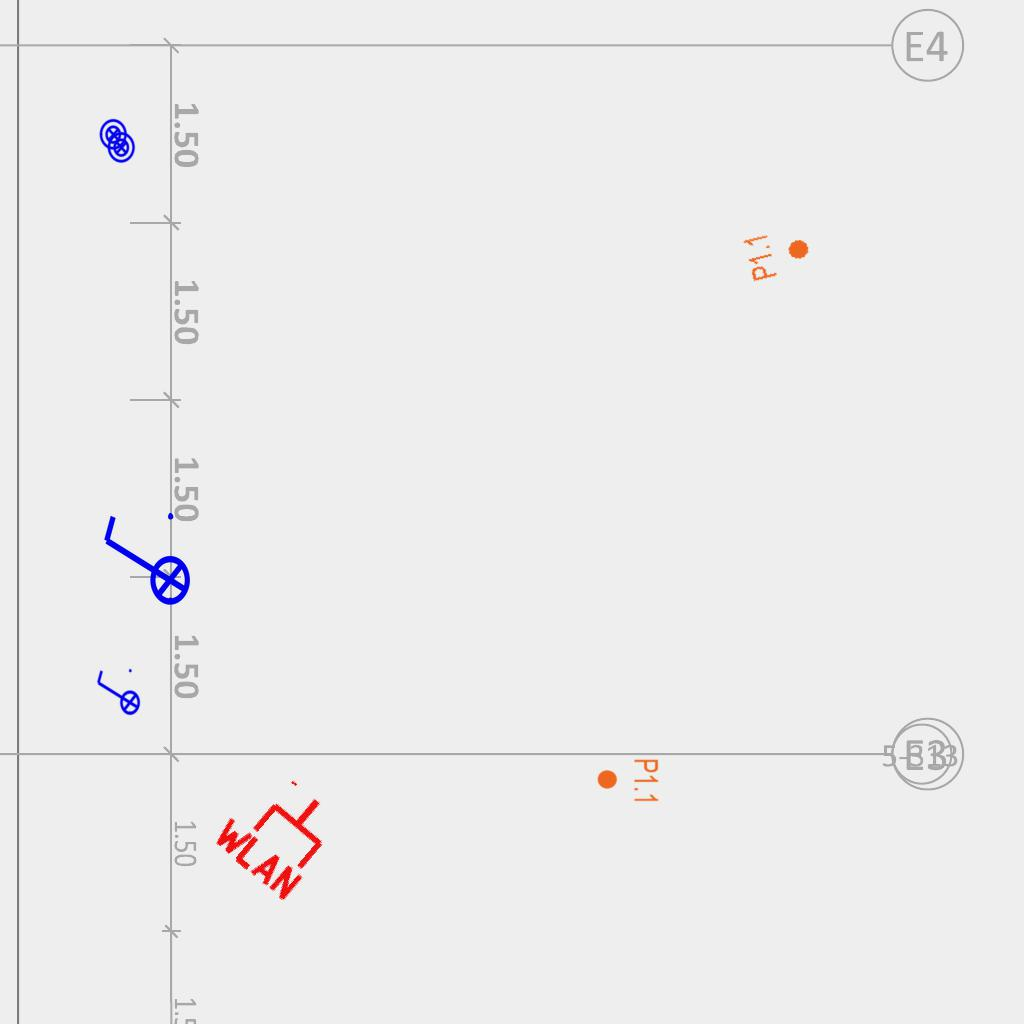Ausschalter_beleuchtet: (96, 507, 192, 619), (93, 666, 141, 722)
Downlight_LED_Einbauleuchten_Flur: (741, 222, 815, 284), (596, 758, 660, 804)
Taster_beleuchtet: (97, 118, 130, 151), (105, 131, 138, 164)
WLAN: (205, 758, 354, 906)
